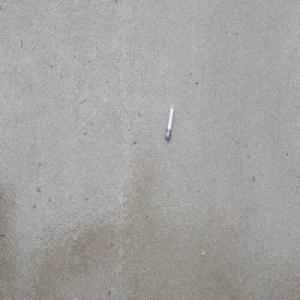Battery: (165, 107, 173, 141)
